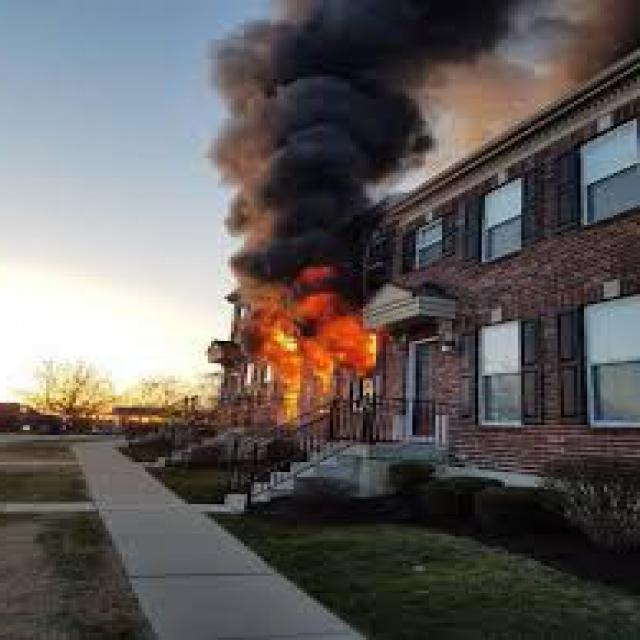Fire: (248, 264, 386, 438)
Smoke: (214, 0, 632, 275)
